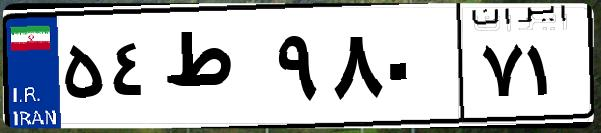0: (385, 28, 445, 110)
1: (525, 38, 570, 115)
4: (110, 28, 158, 98)
5: (57, 26, 110, 100)
7: (475, 38, 525, 113)
8: (330, 28, 385, 110)
9: (270, 28, 330, 110)
ط: (158, 20, 270, 120)
